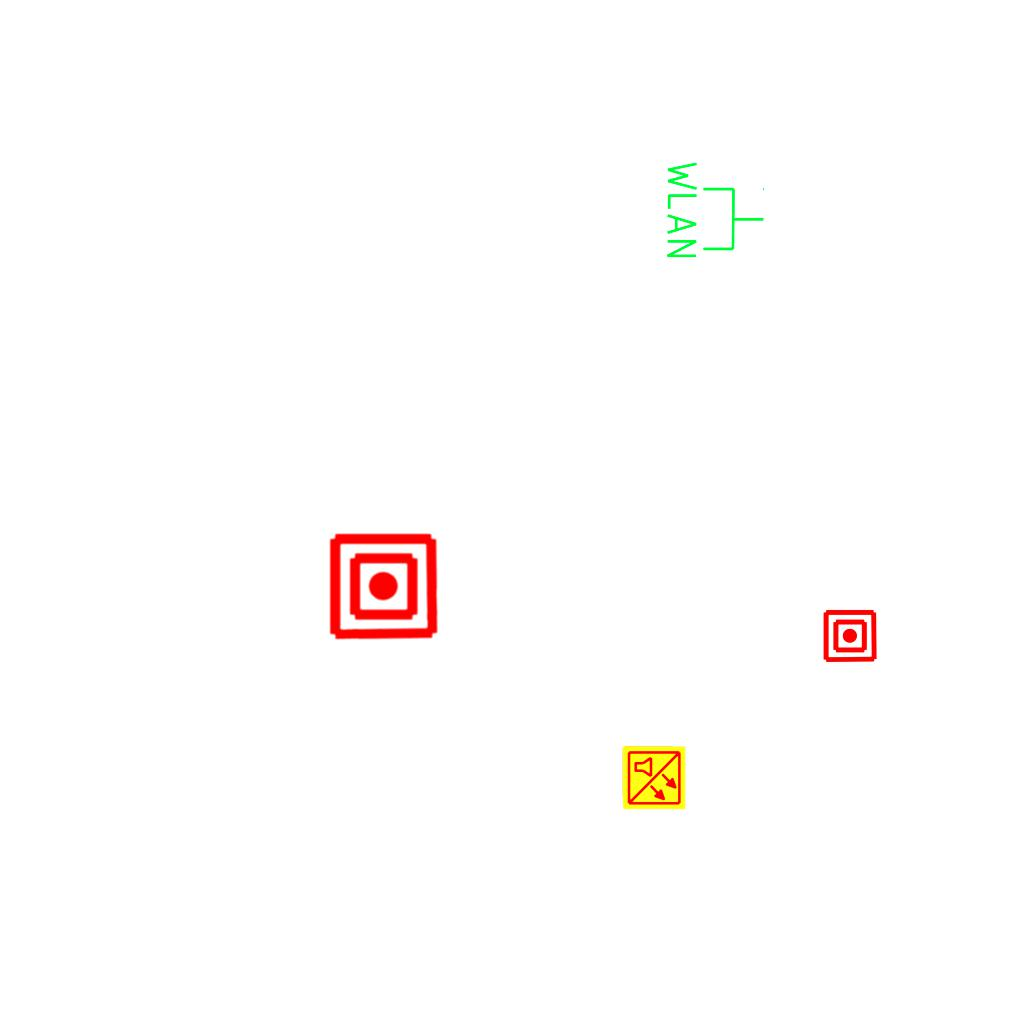NAM-Nichtautomatischer_Melder: (327, 530, 440, 643), (822, 608, 878, 664)
OKW_Multisensormelder_(Kombination_optischer_Rauch-Kahlenmonoxid_Waerme-Melder): (621, 745, 687, 811)
WLAN: (663, 157, 767, 262)
